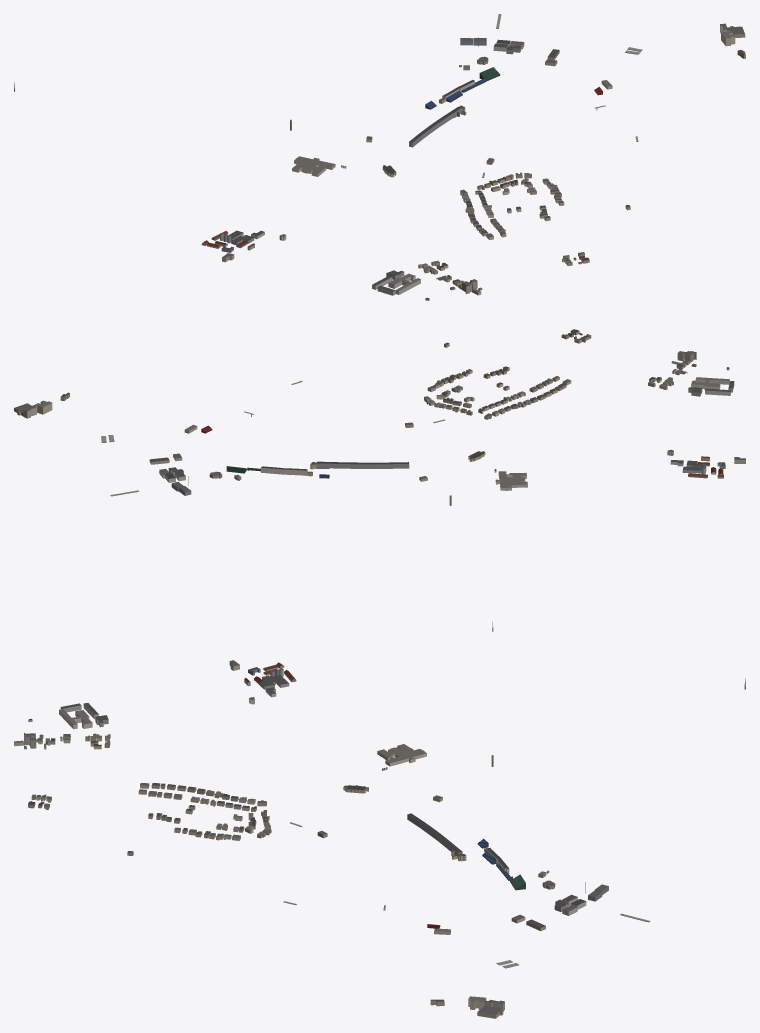
Rendered from scenery.glb.
The picture shows the model from 3 angles, top to bottom: view 1: azimuth 30°, elevation 25°; view 2: azimuth 150°, elevation 25°; view 3: azimuth 270°, elevation 25°; orthographic projection. The views are drawn at different scales.
Visible parts, largest first — view 1: chunk_14_16, chunk_13_17, chunk_15_14, chunk_14_15, chunk_12_16, chunk_13_15; view 2: chunk_14_16, chunk_13_17, chunk_15_14, chunk_14_15, chunk_12_16, chunk_13_15; view 3: chunk_14_16, chunk_13_17, chunk_15_14, chunk_14_15, chunk_12_16, chunk_13_15.
Boxes of the visible parts, x1,y1,x2,y2 form: chunk_14_16: (460, 172, 630, 239); chunk_13_17: (372, 260, 482, 300); chunk_15_14: (459, 14, 559, 92); chunk_14_15: (366, 98, 494, 177); chunk_12_16: (201, 230, 264, 262); chunk_13_15: (292, 156, 346, 176); chunk_14_16: (424, 342, 571, 423); chunk_13_17: (648, 351, 734, 396); chunk_15_14: (110, 453, 260, 496); chunk_14_15: (307, 422, 485, 481); chunk_12_16: (670, 456, 745, 478); chunk_13_15: (494, 469, 527, 490); chunk_14_16: (127, 783, 302, 855); chunk_13_17: (14, 703, 110, 749); chunk_15_14: (496, 863, 650, 931); chunk_14_15: (317, 785, 488, 861); chunk_12_16: (229, 660, 296, 697); chunk_13_15: (377, 744, 426, 770).
Size of the model in its own units: 1708 by 59.6 by 1555.
